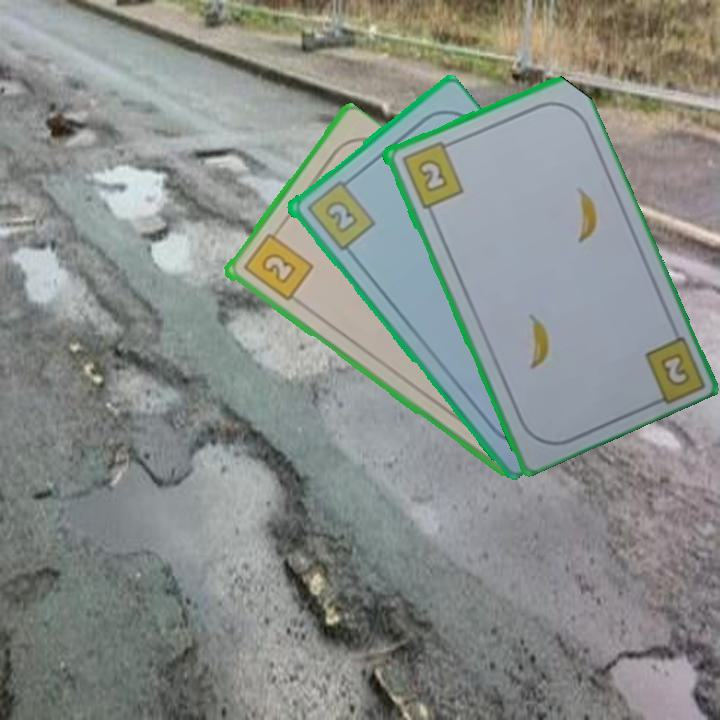2b: (302, 173, 378, 253), (239, 225, 315, 304), (398, 137, 466, 211), (656, 349, 693, 389)
